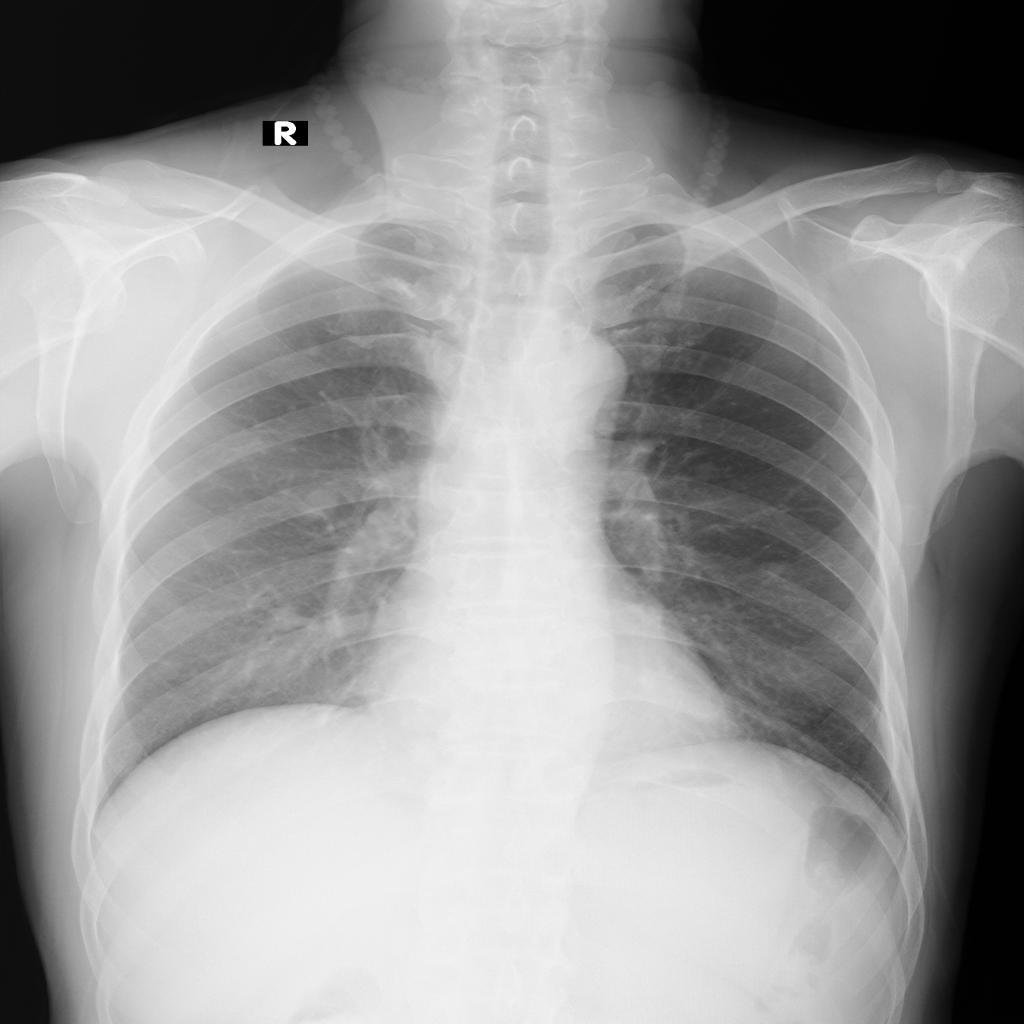Nodule: (300, 488, 342, 521), (839, 478, 865, 499), (757, 562, 784, 582), (694, 463, 720, 482), (301, 339, 323, 358)
